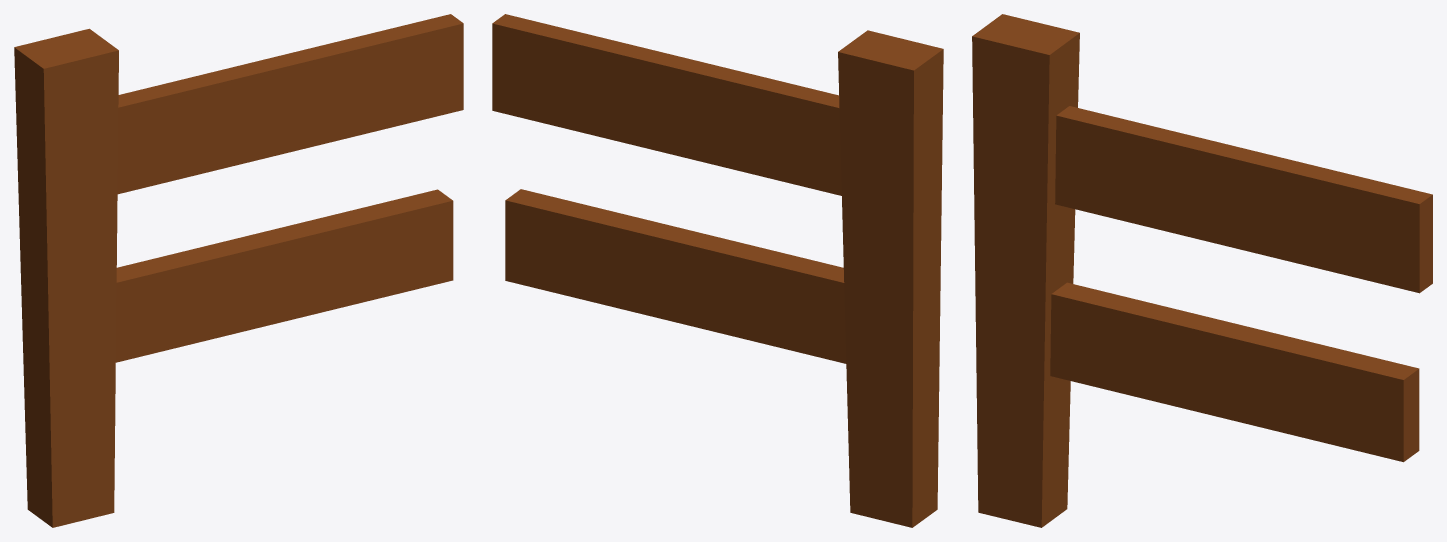
File: Fence.fbx
The picture shows the model from 3 angles, left to right: view 1: azimuth 30°, elevation 25°; view 2: azimuth 150°, elevation 25°; view 3: azimuth 330°, elevation 25°; orthographic projection. The views are drawn at different scales.
Parts seen in each view (by area): view 1: Fence; view 2: Fence; view 3: Fence.
Part boxes in pixels (bbox=[...]): Fence: bbox=[14, 14, 463, 527]; Fence: bbox=[492, 14, 943, 527]; Fence: bbox=[972, 14, 1432, 527].
Size of the model in its own units: 0.8998 by 0.9255 by 0.113.
